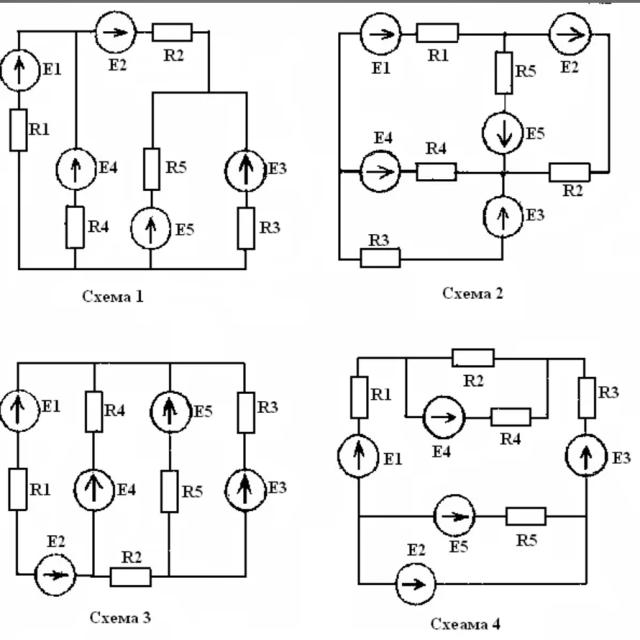net: (14, 263, 250, 273), (14, 359, 248, 368), (604, 31, 614, 176), (15, 146, 24, 272), (71, 29, 80, 152), (147, 572, 250, 582), (432, 581, 592, 587), (15, 25, 100, 36), (149, 90, 251, 98), (89, 507, 99, 580), (353, 354, 455, 361), (356, 472, 362, 589), (490, 355, 589, 362), (584, 473, 590, 588), (398, 256, 508, 262), (205, 27, 214, 97), (148, 85, 157, 152), (354, 512, 438, 519), (241, 507, 249, 580), (13, 507, 21, 579), (544, 351, 552, 421), (402, 354, 410, 422), (242, 89, 250, 153), (166, 508, 173, 580), (72, 570, 114, 581), (14, 429, 21, 472), (240, 358, 248, 394), (498, 232, 507, 264), (544, 513, 591, 519), (90, 359, 98, 394), (355, 580, 400, 586), (336, 254, 365, 263), (90, 429, 96, 472), (14, 360, 22, 392), (242, 431, 248, 472), (167, 359, 174, 393), (396, 30, 422, 39), (587, 168, 614, 176), (15, 24, 23, 51), (243, 246, 251, 272), (402, 413, 427, 421), (336, 29, 364, 36), (528, 414, 552, 422), (579, 354, 587, 378), (472, 513, 510, 518), (14, 570, 41, 577), (71, 244, 78, 271), (132, 29, 158, 36), (588, 31, 613, 38), (168, 429, 172, 472), (460, 414, 493, 419), (502, 90, 508, 116), (243, 187, 250, 209), (396, 168, 420, 174), (356, 414, 362, 436), (583, 417, 589, 438), (189, 29, 214, 34), (149, 245, 153, 275), (356, 354, 360, 380)
net_node: (337, 31, 343, 264), (454, 29, 554, 38), (451, 170, 553, 178), (499, 150, 508, 198), (335, 166, 365, 176), (501, 26, 508, 56)
res: (6, 465, 31, 513), (108, 564, 154, 589), (6, 107, 30, 154), (157, 467, 181, 514), (64, 203, 87, 251), (235, 389, 258, 437), (141, 145, 163, 194), (348, 374, 371, 420), (414, 21, 462, 43), (449, 347, 497, 369), (492, 49, 514, 96), (82, 387, 104, 434), (235, 206, 258, 250), (414, 160, 460, 182), (504, 504, 550, 526), (150, 21, 195, 43), (576, 376, 598, 421), (359, 247, 402, 270), (547, 161, 591, 183), (488, 407, 534, 428)
source: (561, 430, 612, 478), (419, 392, 468, 441), (147, 388, 194, 437), (334, 431, 380, 480), (392, 560, 438, 608), (432, 491, 477, 540), (32, 552, 78, 599), (224, 466, 268, 514), (222, 148, 268, 193), (54, 146, 100, 191), (93, 10, 139, 54), (480, 110, 526, 154), (548, 10, 591, 56), (128, 206, 172, 250), (0, 46, 42, 92), (0, 387, 42, 433), (73, 468, 116, 512), (483, 194, 525, 238), (359, 150, 402, 192), (360, 12, 401, 54)
